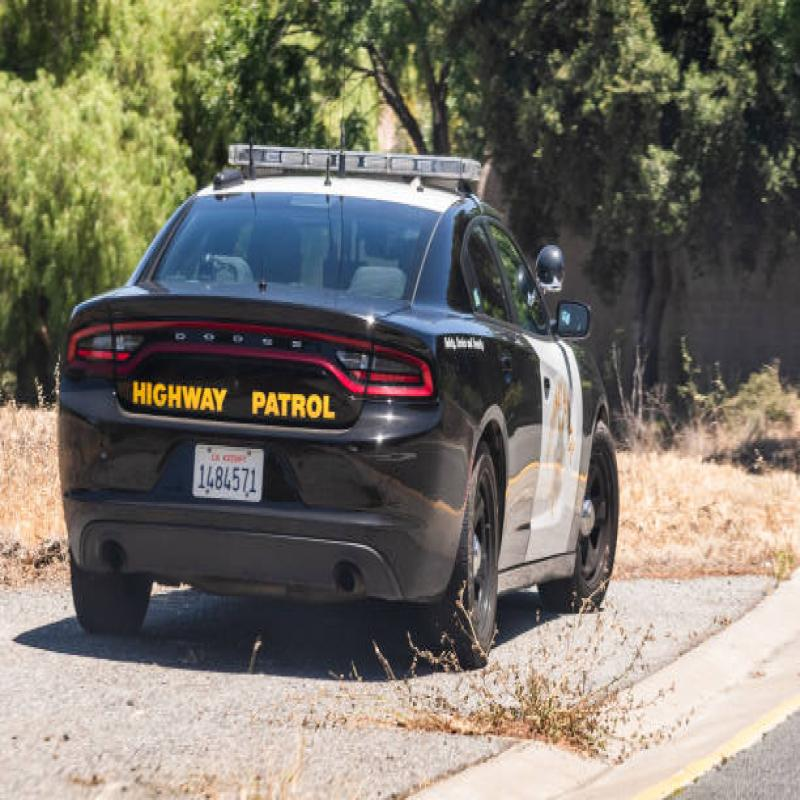AmbulanceSiren: (203, 101, 493, 182)
